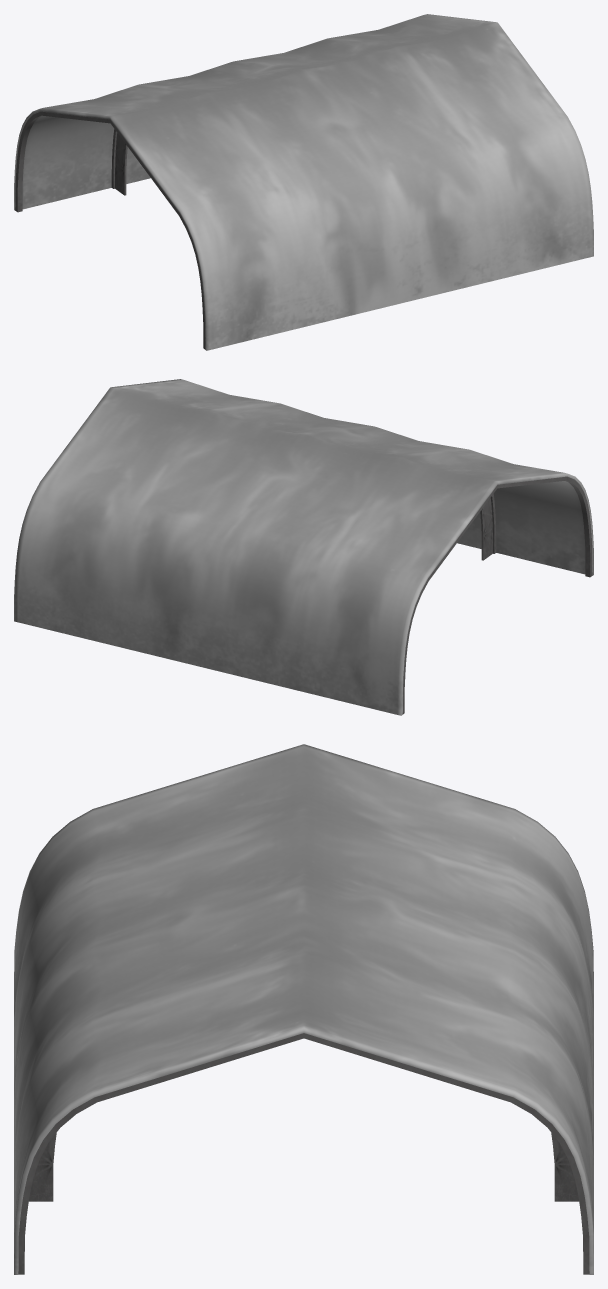
Rendered from StripHangarLOD0.glb.
3 renders of one model, top to bottom at view 1: azimuth 30°, elevation 25°; view 2: azimuth 150°, elevation 25°; view 3: azimuth 270°, elevation 25°, orthographic. The views are drawn at different scales.
Visible parts, largest first — view 1: clothBuilding001_Material #67_0; view 2: clothBuilding001_Material #67_0; view 3: clothBuilding001_Material #67_0.
Boxes of the visible parts, x1,y1,x2,y2 form: clothBuilding001_Material #67_0: (14,14,593,350); clothBuilding001_Material #67_0: (14,379,593,715); clothBuilding001_Material #67_0: (14,744,593,1274).
Size of the model in its own units: 25.37 by 10.24 by 21.86.
Materials: 1 (1 with a texture image).
